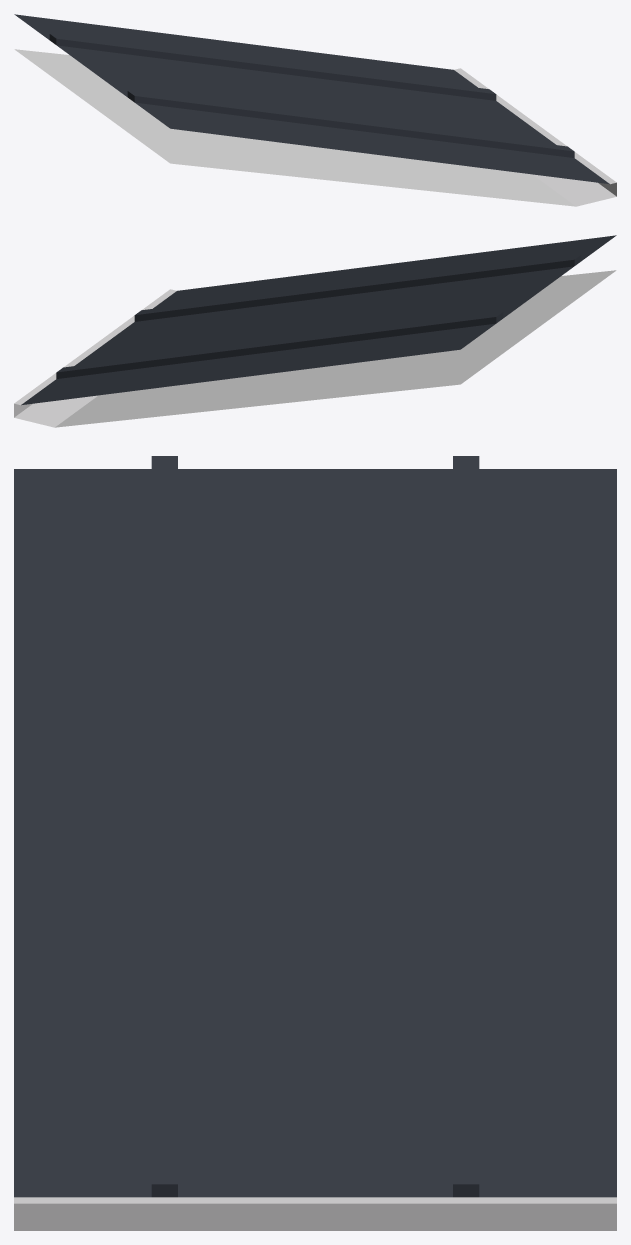
File: SM_roof_04.glb
The picture shows the model from 3 angles, top to bottom: view 1: azimuth 30°, elevation 25°; view 2: azimuth 150°, elevation 25°; view 3: azimuth 270°, elevation 25°; orthographic projection. The views are drawn at different scales.
Parts seen in each view (by area): view 1: SM_roof_04; view 2: SM_roof_04; view 3: SM_roof_04.
Part boxes in pixels (x1=…): SM_roof_04: x1=14, y1=14, x2=616, y2=206; SM_roof_04: x1=14, y1=235, x2=616, y2=427; SM_roof_04: x1=14, y1=456, x2=616, y2=1230.
Size of the model in its own units: 6.6 by 2.59 by 4.
Materials: 1 (1 with a texture image).
